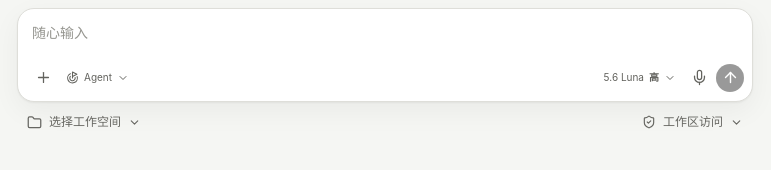
Scenario: Codex conversation controls › keeps the draft and opens login instead of sending while signed out
Type "登录以后再发送" into the text box named "任务输入" at (385, 36), box [18,9,752,62]
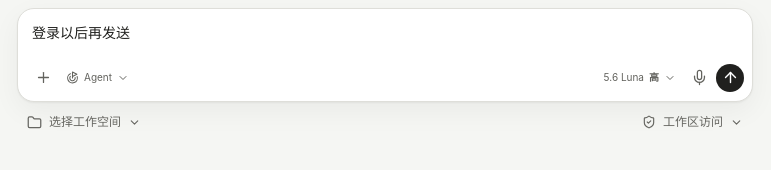
Click the button named "发送" at (730, 78), box [716,64,744,92]
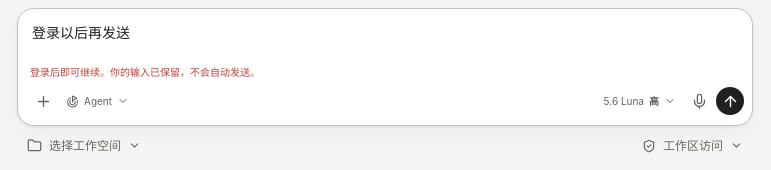
Result: the text "登录后即可继续。你的输入已保留，不会自动发送。" is shown at [30,66,260,78]
